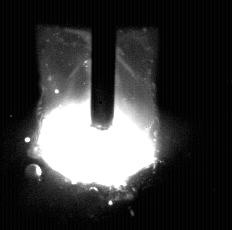arame: (92, 0, 115, 132)
poca: (36, 0, 157, 230)
